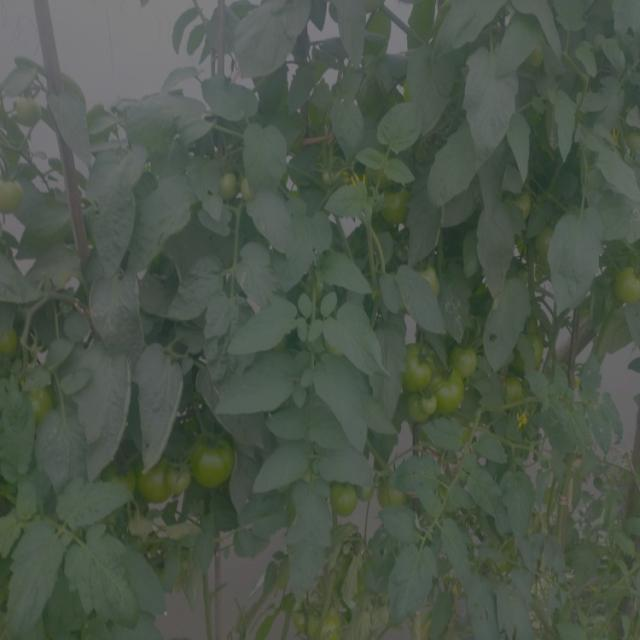tomato: (192, 428, 238, 491), (376, 182, 420, 231), (521, 329, 555, 377), (136, 459, 169, 508), (402, 342, 432, 390), (436, 379, 470, 417), (1, 170, 24, 225), (331, 481, 360, 522), (384, 477, 415, 514), (507, 184, 534, 226), (618, 259, 640, 310), (415, 261, 443, 300), (214, 162, 239, 205), (451, 343, 479, 379), (30, 387, 55, 427), (1, 322, 22, 369), (295, 596, 317, 640), (503, 375, 527, 412), (532, 228, 552, 266), (170, 467, 190, 503), (408, 398, 434, 425), (324, 607, 344, 640), (242, 178, 255, 202)
